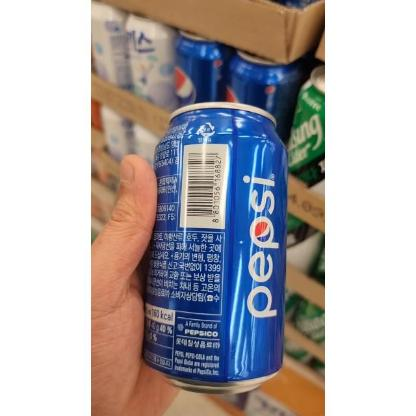Can: (140, 102, 288, 393)
